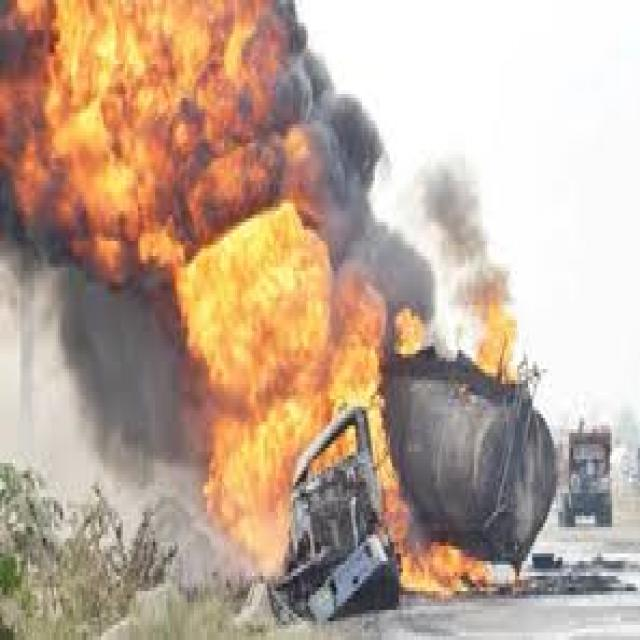fire: (2, 203, 526, 599), (2, 3, 328, 200)
smoke: (327, 71, 513, 312)
